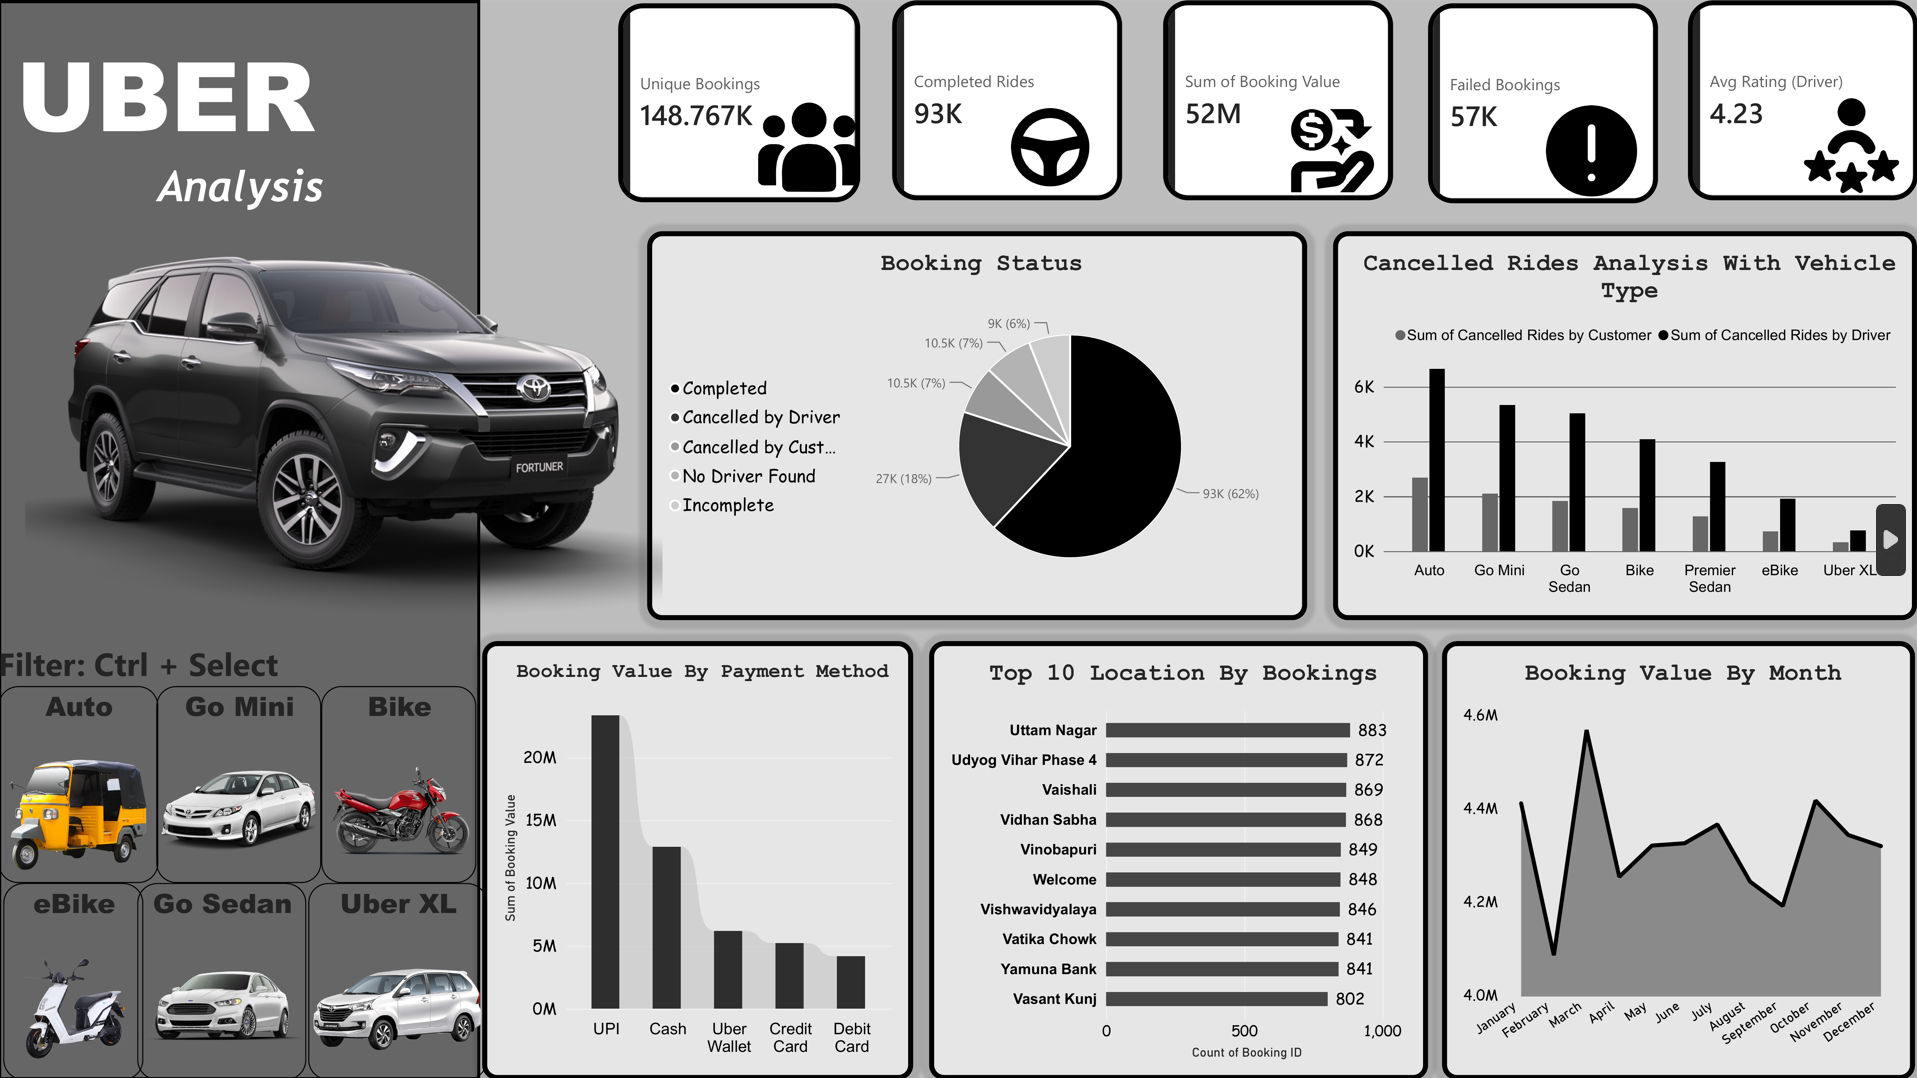

This screenshot's page, from the dashboard's own definition file:
{"tool":"powerbi","page":{"name":"Page 1","canvas":[1920,1080],"ordinal":0},"visuals":[{"type":"shape","box":[0,0,482.5,1080],"z":0},{"type":"pieChart","title":"Booking Status","fields":{"Category":["Uber report data.Booking Status"],"Y":["CountNonNull(Uber report data.Booking Status)"]},"box":[649.3,231.3,659.8,389.1],"z":1000},{"type":"columnChart","title":"Booking Value By Payment Method","fields":{"Category":["Uber report data.Payment Method"],"Y":["Sum(Uber report data.Booking Value)"]},"box":[483.7,641.4,431.1,439],"z":2000},{"type":"clusteredColumnChart","title":"Cancelled Rides Analysis With Vehicle Type","fields":{"Category":["Uber report data.Vehicle Type"],"Y":["Sum(Uber report data.Cancelled Rides by Customer)","Sum(Uber report data.Cancelled Rides by Driver)"]},"box":[1335.4,231.3,583.6,389.1],"z":3000},{"type":"cardVisual","fields":{"Data":["Sum(Uber report data.Booking Value)"]},"box":[1164.5,0,230,200],"z":4000},{"type":"cardVisual","fields":{"Data":["Avg(Uber report data.Driver Ratings)"]},"box":[1690.3,0,230,200],"z":5000},{"type":"cardVisual","fields":{"Data":["Uber report data.Failed Bookings"]},"box":[1430,2.6,230,200],"z":6000},{"type":"clusteredBarChart","title":"Top 10 Location By Bookings","fields":{"Category":["Uber report data.Drop Location"],"Y":["CountNonNull(Uber report data.Booking ID)"]},"box":[930.6,641.4,499.5,439],"z":7000},{"type":"image","box":[0,220.8,691.4,399.6],"z":8000},{"type":"textbox","box":[18.3,25.2,357.8,195],"z":9000},{"type":"cardVisual","fields":{"Data":["Uber report data.Completed Rides"]},"box":[893.8,0,230,200],"z":10000},{"type":"areaChart","title":"Booking Value By Month","fields":{"Category":["Uber report data.DateTime.Variation.Date Hierarchy.Month"],"Y":["Sum(Uber report data.Booking Value)"]},"box":[1443.9,641,473.2,439],"z":11000},{"type":"image","box":[980.5,107.8,141.7,78.2],"z":12000},{"type":"image","box":[1293.3,99.9,83.1,100.2],"z":13000},{"type":"image","box":[1545.7,105.1,95.3,90.4],"z":14000},{"type":"image","box":[1805.7,95.3,95.3,100.2],"z":15000},{"type":"cardVisual","fields":{"Data":["Count(Uber report data.Booking ID)"]},"box":[620.4,2.6,241.8,199.8],"z":16000},{"type":"image","title":"Auto","box":[0,686.1,160.4,197.2],"z":17000},{"type":"image","title":"Go Mini","box":[157.7,686.1,165.6,197.2],"z":18000},{"type":"image","title":"Go Sedan","box":[139.3,883.3,168.2,197.2],"z":19000},{"type":"image","title":"Bike","box":[323.3,686.1,155.1,197.2],"z":20000},{"type":"image","title":"Uber XL","box":[310.2,883.3,178.8,197.2],"z":21000},{"type":"image","title":"eBike","box":[5.3,883.3,139.3,197.2],"z":22000},{"type":"image","box":[759.7,92,102.5,110.4],"z":23000},{"type":"textbox","box":[0,641.4,307.6,44.7],"z":24001}]}

Visuals, with their boxes in screenshot pixels (x1, y1, x2, y2), scaled from the page's 1920x1080 canvas onto the 1917x1078 screenshot:
shape: box=[0, 0, 482, 1077]
"Booking Status" pieChart: box=[648, 231, 1307, 619]
"Booking Value By Payment Method" columnChart: box=[483, 640, 913, 1077]
"Cancelled Rides Analysis With Vehicle Type" clusteredColumnChart: box=[1333, 231, 1916, 619]
cardVisual - Sum(Uber report data.Booking Value): box=[1163, 0, 1392, 200]
cardVisual - Avg(Uber report data.Driver Ratings): box=[1688, 0, 1916, 200]
cardVisual - Uber report data.Failed Bookings: box=[1428, 3, 1657, 202]
"Top 10 Location By Bookings" clusteredBarChart: box=[929, 640, 1428, 1077]
image: box=[0, 220, 690, 619]
textbox: box=[18, 25, 376, 220]
cardVisual - Uber report data.Completed Rides: box=[892, 0, 1122, 200]
"Booking Value By Month" areaChart: box=[1442, 640, 1914, 1077]
image: box=[979, 108, 1120, 186]
image: box=[1291, 100, 1374, 200]
image: box=[1543, 105, 1638, 195]
image: box=[1803, 95, 1898, 195]
cardVisual - Count(Uber report data.Booking ID): box=[619, 3, 861, 202]
"Auto" image: box=[0, 685, 160, 882]
"Go Mini" image: box=[157, 685, 323, 882]
"Go Sedan" image: box=[139, 882, 307, 1077]
"Bike" image: box=[323, 685, 478, 882]
"Uber XL" image: box=[310, 882, 488, 1077]
"eBike" image: box=[5, 882, 144, 1077]
image: box=[759, 92, 861, 202]
textbox: box=[0, 640, 307, 685]
